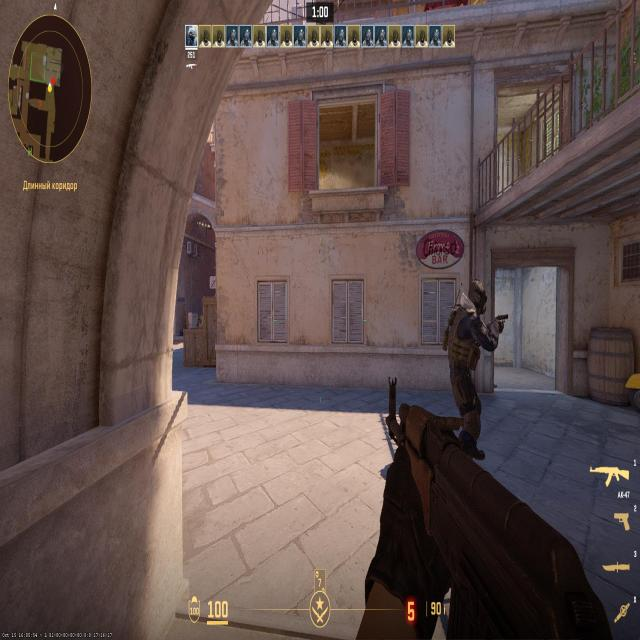CT: (461, 282, 482, 436)
CT_heat: (472, 292, 483, 307)
